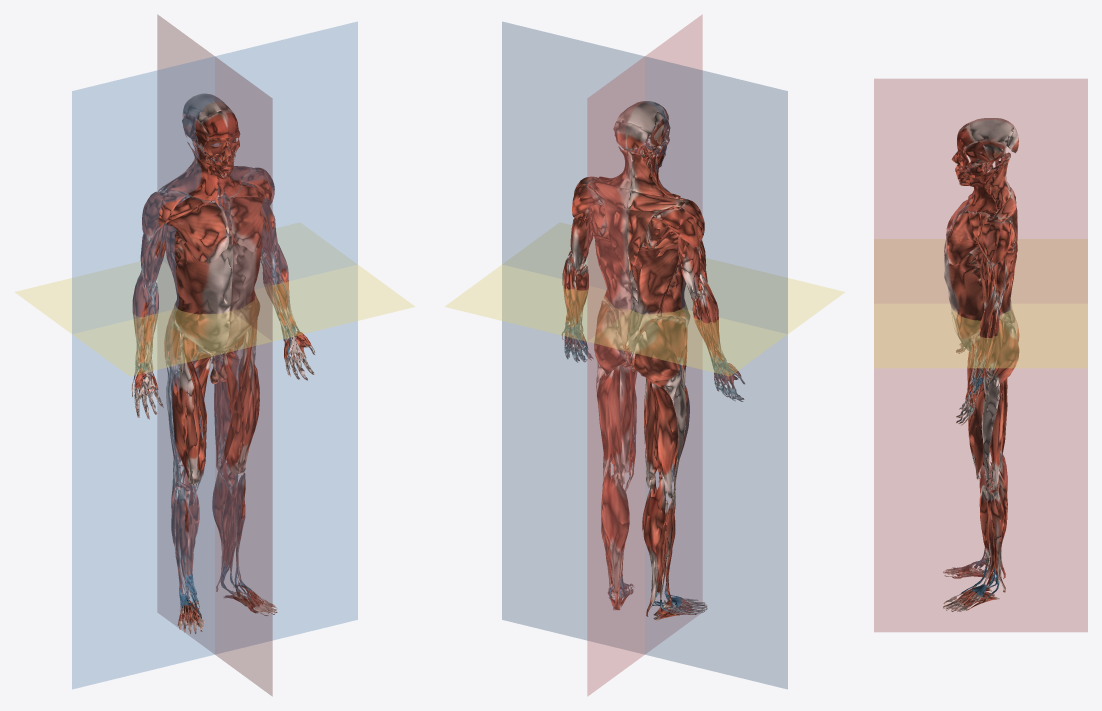
The model's file is 01-02-body-planes.glb.
3 renders of one model, left to right at view 1: azimuth 30°, elevation 25°; view 2: azimuth 150°, elevation 25°; view 3: azimuth 270°, elevation 25°, orthographic. The views are drawn at different scales.
Visible parts, largest first — view 1: Frontal (coronal) plane, Midsagittal plane, AnatomyFigure, Transverse plane; view 2: Frontal (coronal) plane, Midsagittal plane, AnatomyFigure, Transverse plane; view 3: Midsagittal plane, AnatomyFigure, Transverse plane.
Part boxes in pixels (left/top/right/bottom): Frontal (coronal) plane: left=72, top=21, right=357, bottom=689; Midsagittal plane: left=157, top=14, right=272, bottom=696; AnatomyFigure: left=131, top=93, right=315, bottom=634; Transverse plane: left=15, top=223, right=414, bottom=376; Frontal (coronal) plane: left=502, top=21, right=787, bottom=689; Midsagittal plane: left=587, top=14, right=702, bottom=696; AnatomyFigure: left=562, top=101, right=744, bottom=620; Transverse plane: left=445, top=223, right=844, bottom=376; Midsagittal plane: left=874, top=79, right=1087, bottom=631; AnatomyFigure: left=943, top=118, right=1019, bottom=611; Transverse plane: left=874, top=239, right=1087, bottom=367.
Bounding box in the file's own units: 1 × 2 × 0.7.
Materials: 4 (1 with a texture image).
